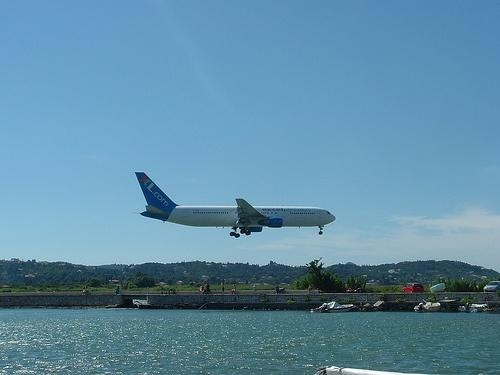aeroplane: (132, 171, 338, 240)
